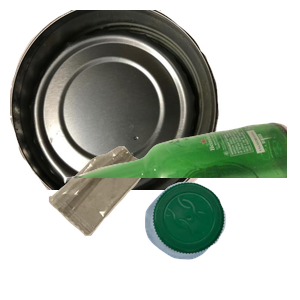glass: (60, 120, 300, 300)
metal: (10, 10, 221, 190)
plastic: (142, 179, 300, 300)
trash: (46, 144, 188, 300)
